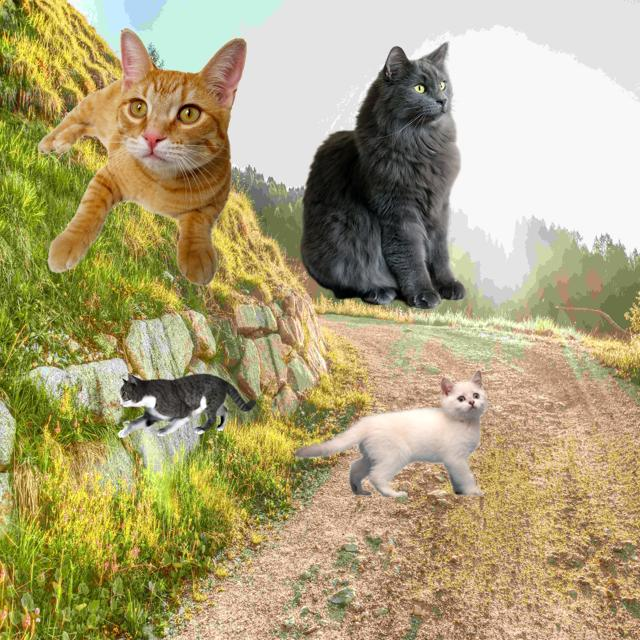cat: (39, 29, 246, 284), (297, 38, 472, 312), (297, 369, 499, 495), (113, 311, 256, 457)
